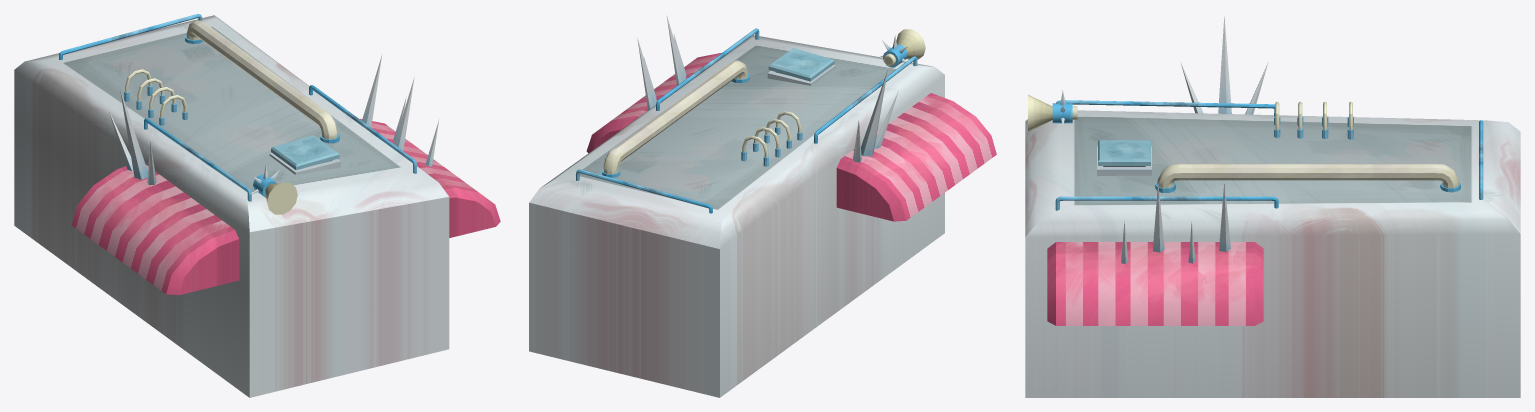
The model's file is PlayerTruck.fbx.
3 views of the same model, side by side, from view 1: azimuth 30°, elevation 25°; view 2: azimuth 150°, elevation 25°; view 3: azimuth 270°, elevation 25° (orthographic). The views are drawn at different scales.
Visible parts, largest first — view 1: PlayerTruck; view 2: PlayerTruck; view 3: PlayerTruck.
Part boxes in pixels (box(x1,y1,x2,y2)): PlayerTruck: box(14, 14, 500, 397); PlayerTruck: box(529, 15, 996, 397); PlayerTruck: box(1025, 15, 1520, 397).
Size of the model in its own units: 723 by 517 by 881.
